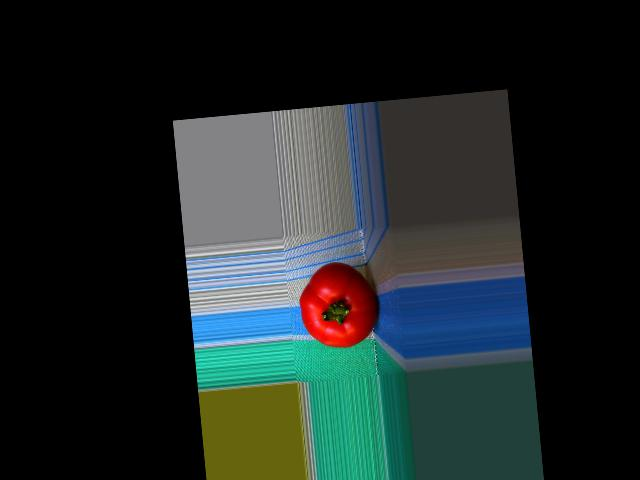tomato: (296, 259, 381, 351)
